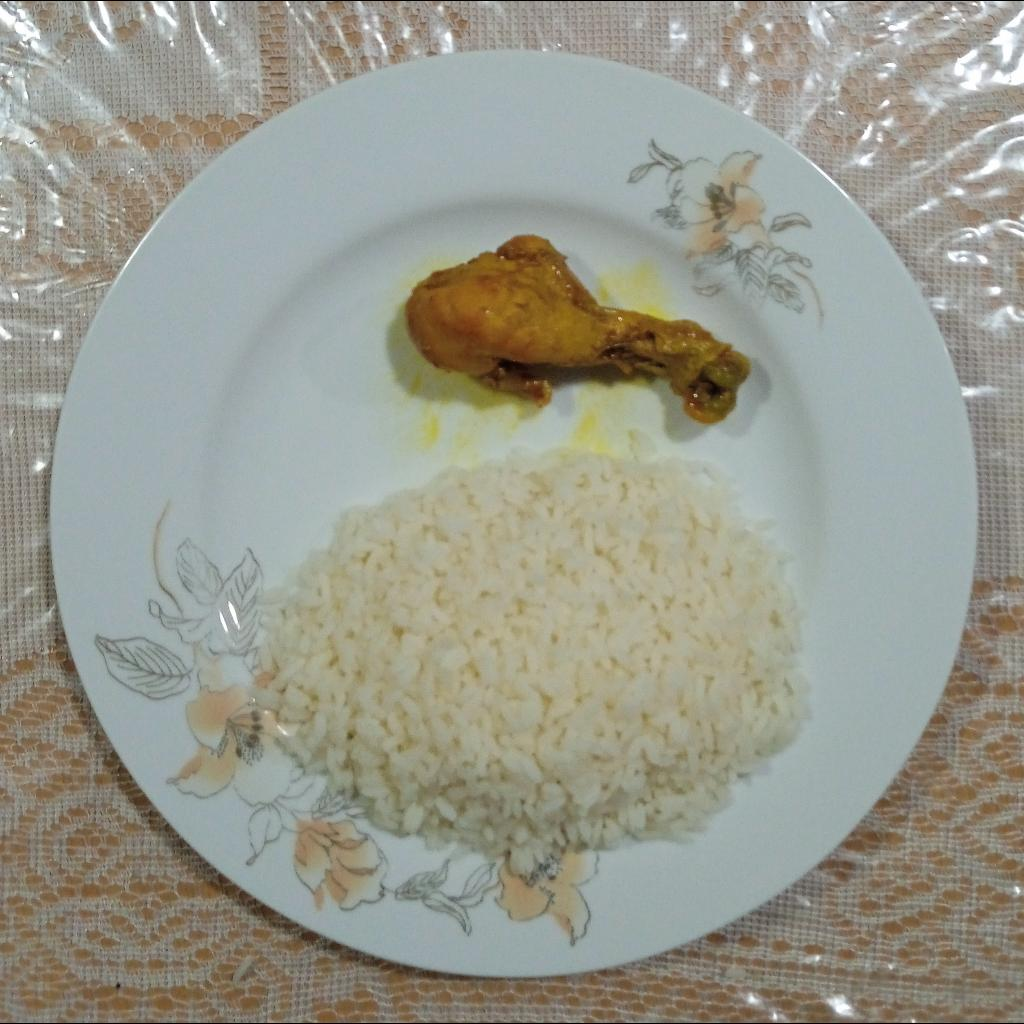chicken: (408, 229, 756, 424)
rice: (253, 442, 812, 878)
